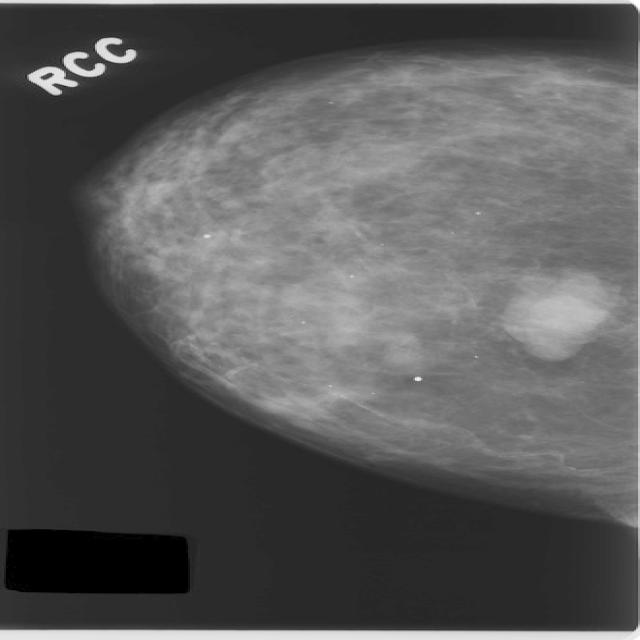tumour: (498, 266, 617, 362)
